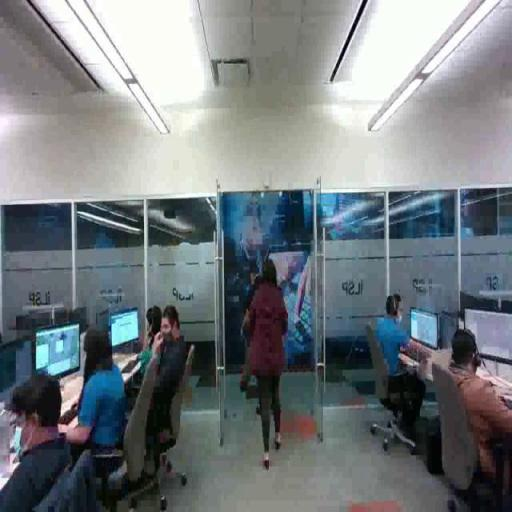person: (244, 252, 292, 471)
